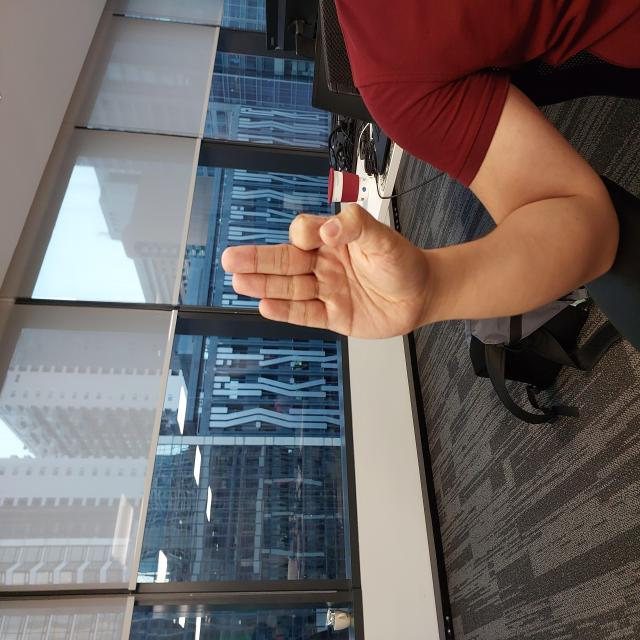F: (298, 219, 440, 431)
